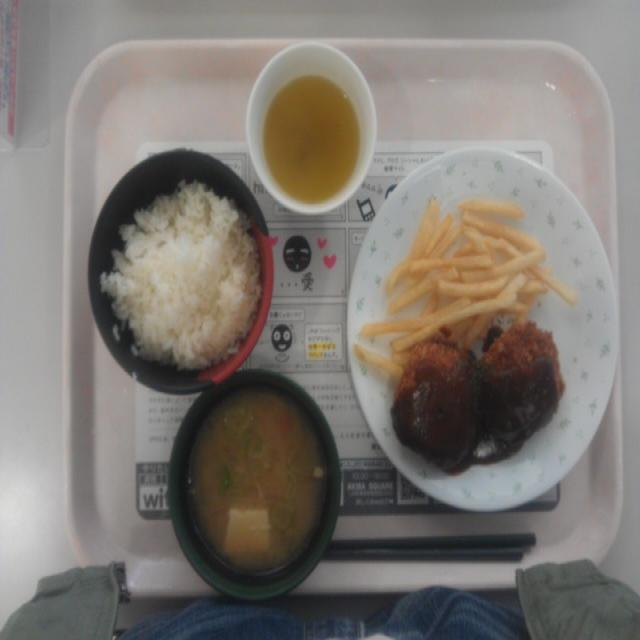Rice: (106, 164, 254, 370)
